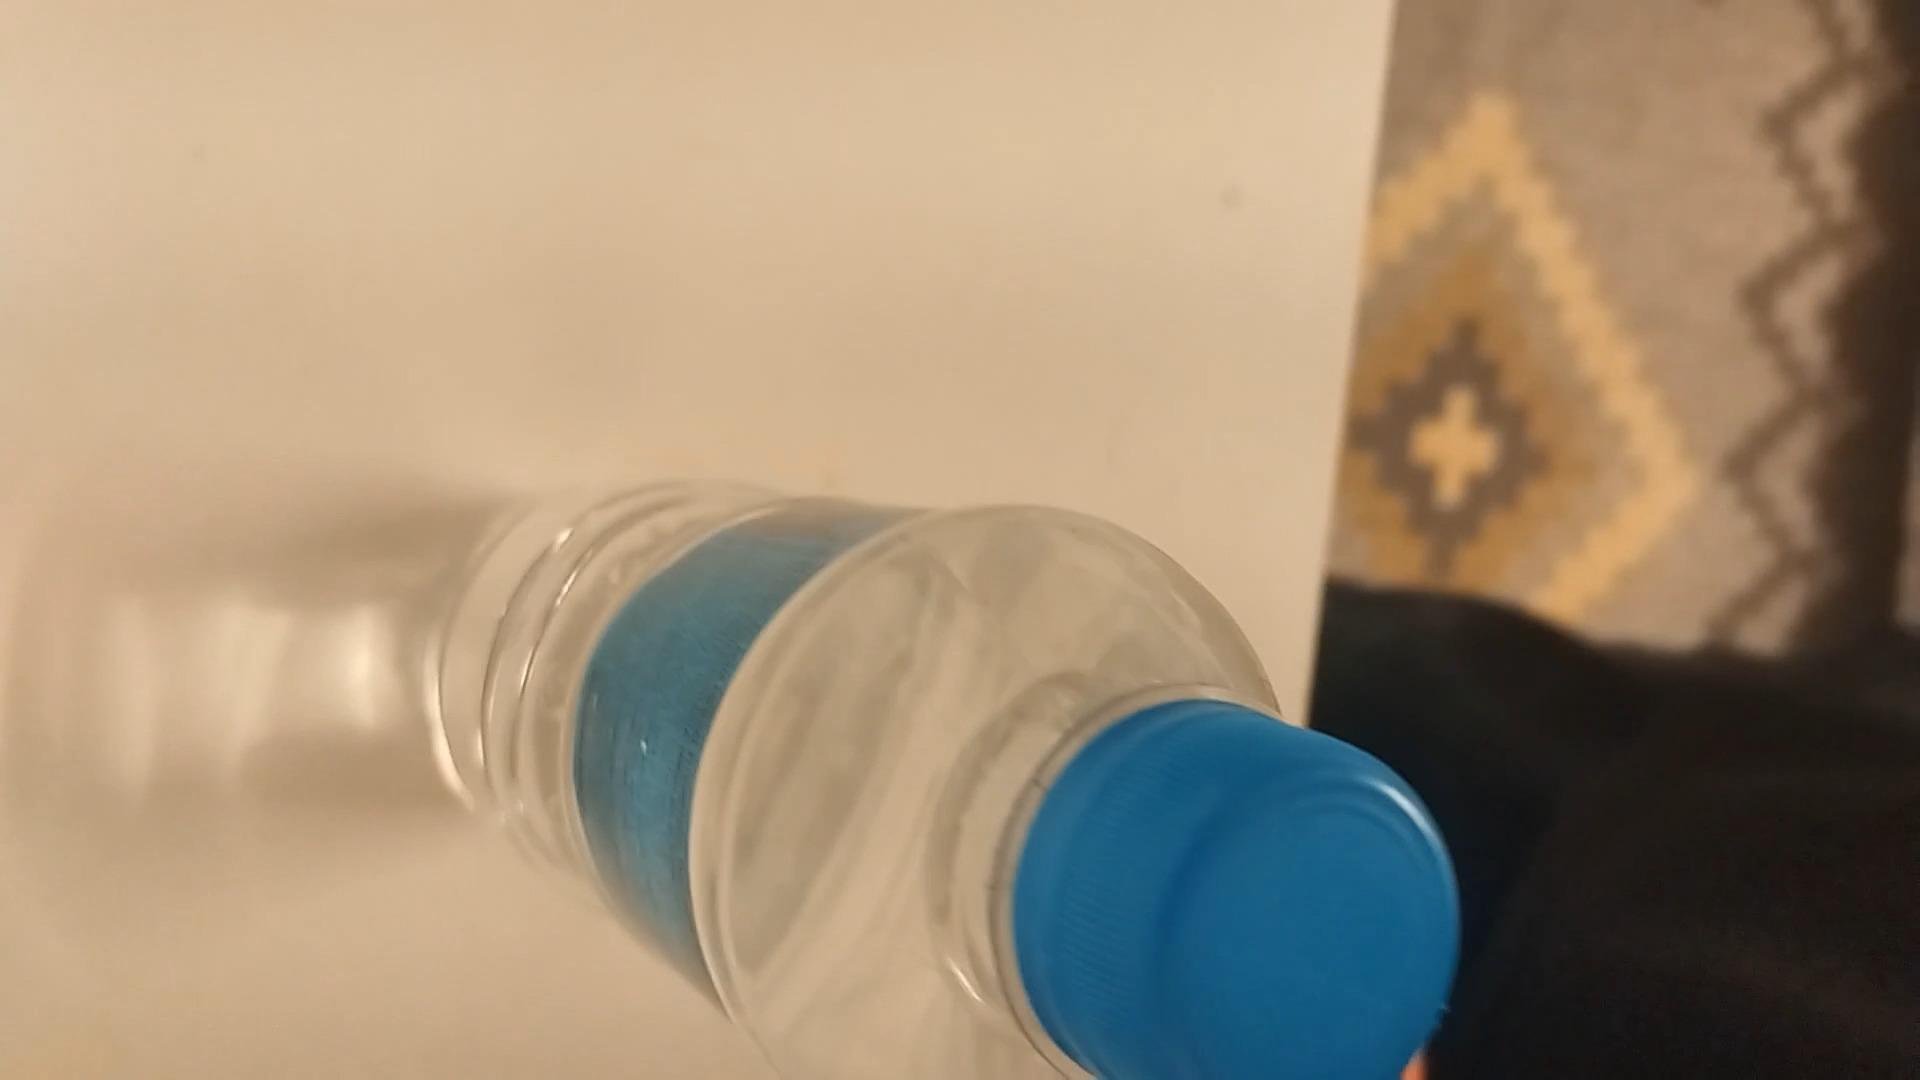agua: (423, 454, 1505, 1080)
